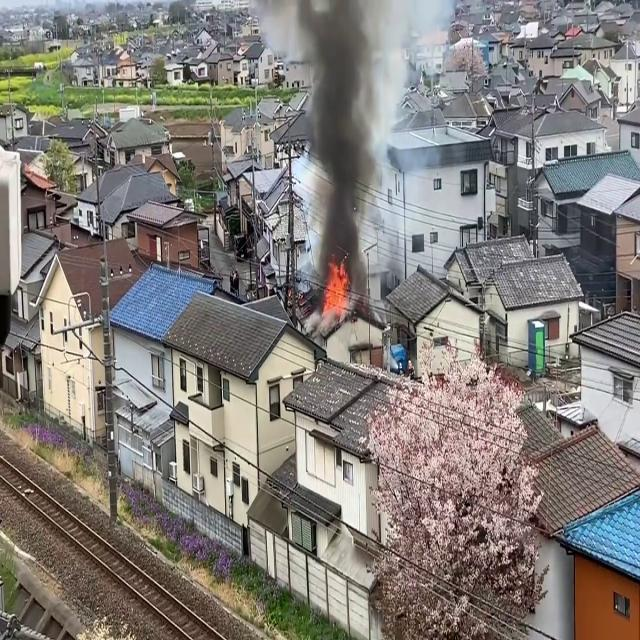Fire: (321, 255, 352, 321)
Smoke: (296, 1, 392, 294)
